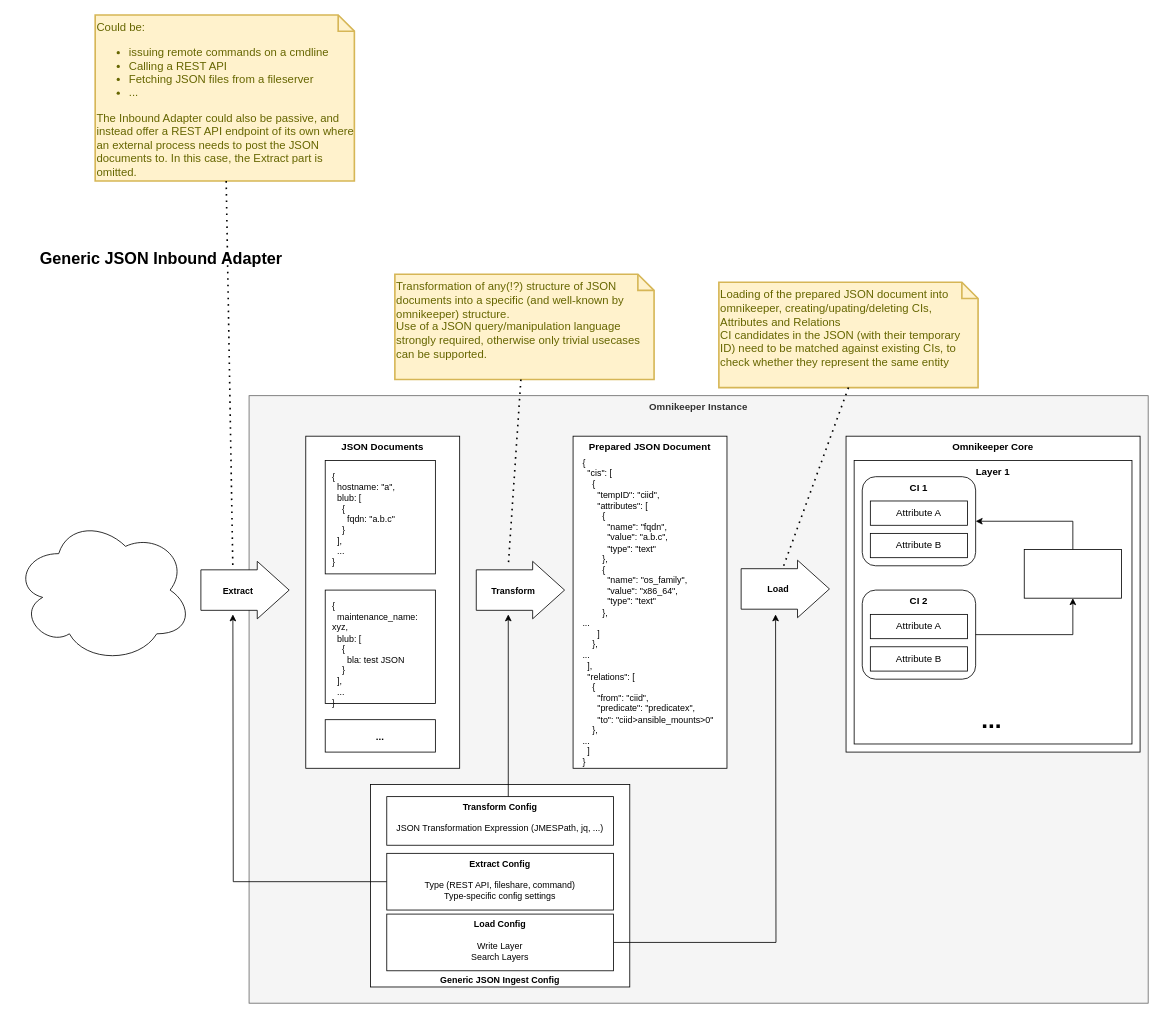
Image size: 1162x1017. Some labels were removed from this diagram. The shapes that lost their labels are listed below. From the top down, each one's centre as x and y in pixels, then its label:
At point 102,589: "Data Source(s)".
At point 1072,573: "Relation X".
